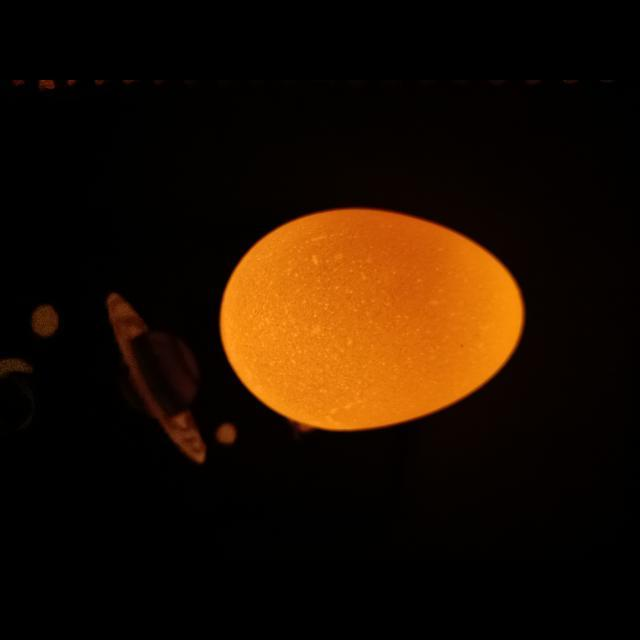AA - Premium: (220, 209, 524, 430), (378, 299, 380, 301)
